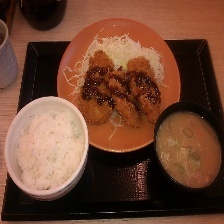rice: (7, 96, 86, 200)
